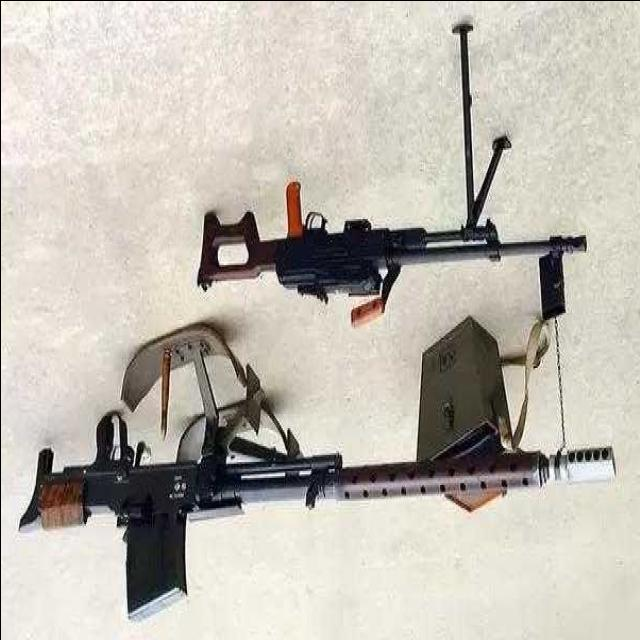heavyweapon: (15, 377, 625, 617), (192, 92, 582, 340)
